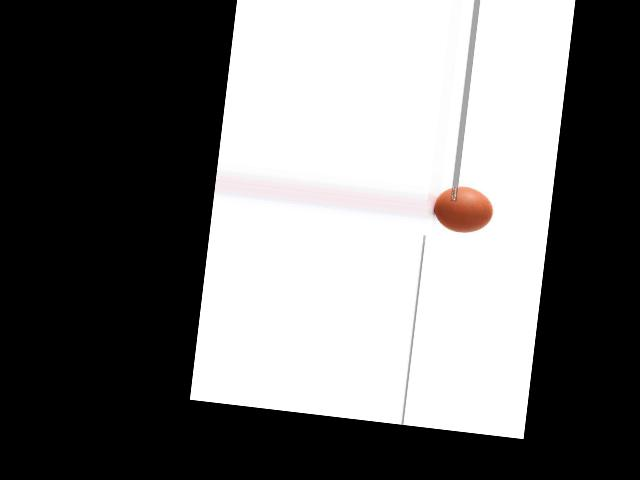egg: (432, 183, 495, 235)
